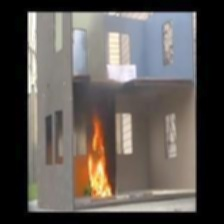fire: (82, 117, 119, 200)
